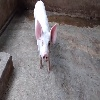heo: (32, 1, 59, 72)
